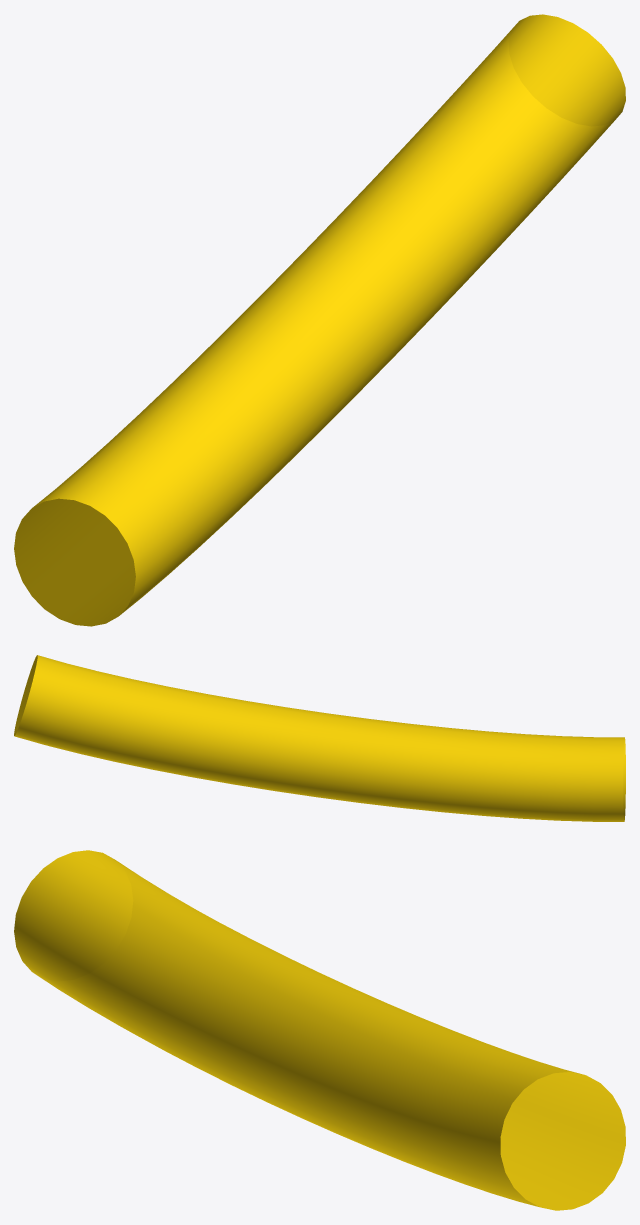
Rendered from Event_421127236_track_41.fbx.
3 views of the same model, one above another, from view 1: azimuth 30°, elevation 25°; view 2: azimuth 150°, elevation 25°; view 3: azimuth 270°, elevation 25° (orthographic). The views are drawn at different scales.
Parts seen in each view (by area): view 1: Model; view 2: Model; view 3: Model.
Boxes of the visible parts, bbox=[...] form: Model: bbox=[14, 14, 625, 626]; Model: bbox=[14, 655, 625, 821]; Model: bbox=[14, 850, 625, 1210].
Bounding box in the file's own units: 0.2653 × 0.0822 × 0.1748.
